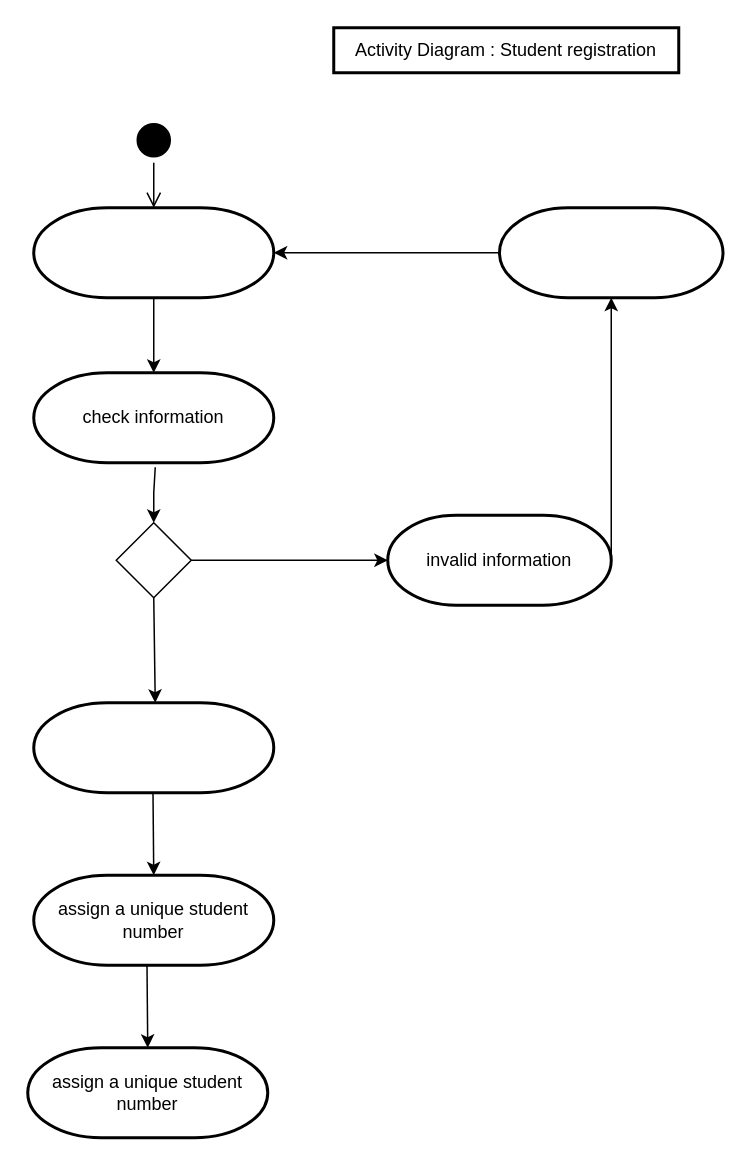
The diagram is 750 pixels wide and 1164 high, and some of its shapes have lost their labels. The centre of each missing label's shape, as x and y in pixels:
"save information" belongs at (153,252).
"Update information" belongs at (610,252).
"valid information" belongs at (153,747).
